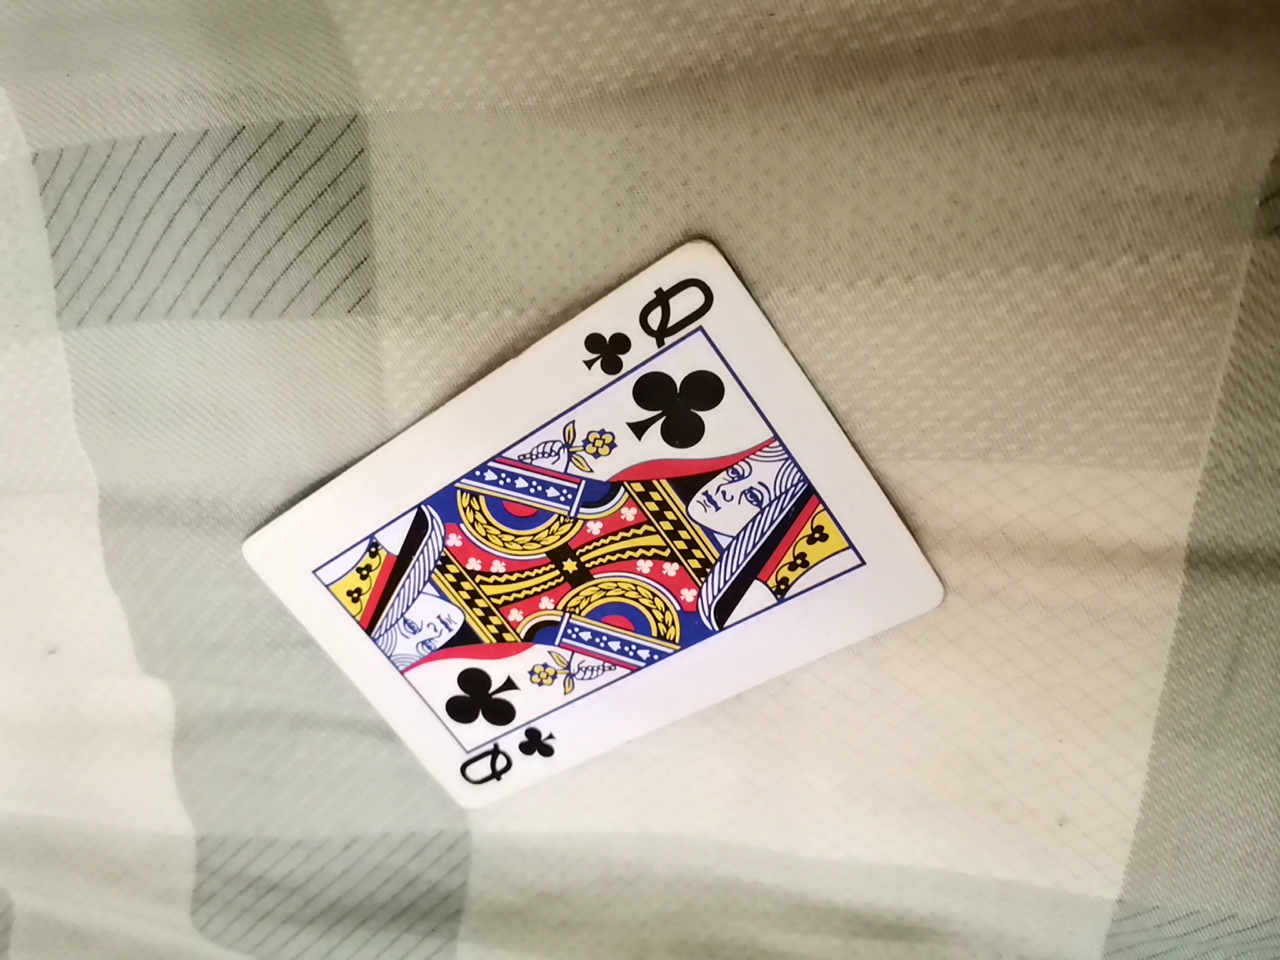mh q: (240, 254, 949, 827)
